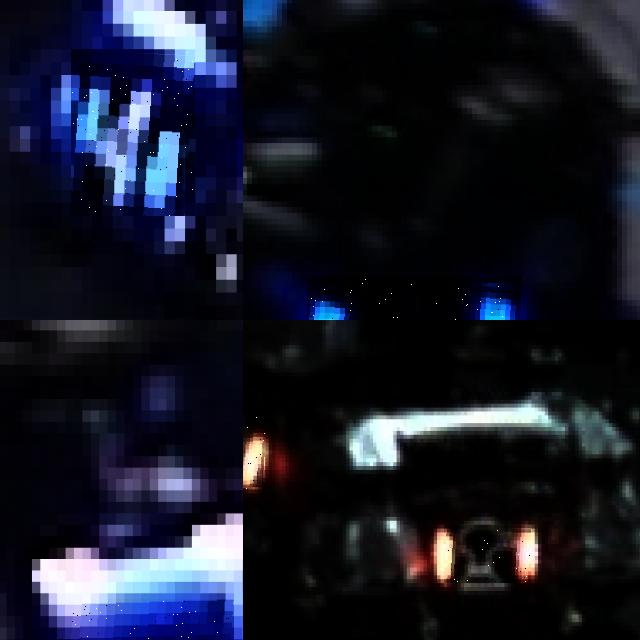B1: (307, 277, 522, 320)
B4: (72, 49, 196, 216)
Rs: (444, 525, 531, 583), (243, 411, 268, 489)
